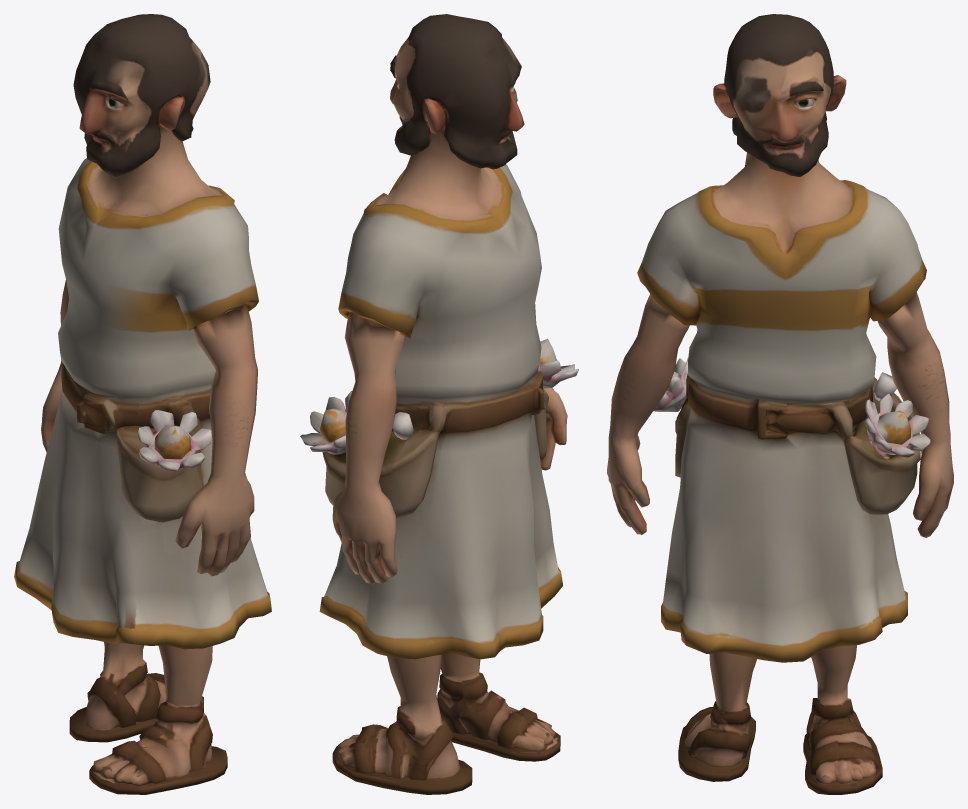
Rendered from char_doryseus_01_mesh_8000.glb.
The picture shows the model from 3 angles, left to right: view 1: azimuth 30°, elevation 25°; view 2: azimuth 150°, elevation 25°; view 3: azimuth 270°, elevation 25°; orthographic projection.
Parts seen in each view (by area): view 1: tripo_node_bf07bfe3-248e-44b8-9c16-947ac5835352; view 2: tripo_node_bf07bfe3-248e-44b8-9c16-947ac5835352; view 3: tripo_node_bf07bfe3-248e-44b8-9c16-947ac5835352.
Part boxes in pixels (<box>): tripo_node_bf07bfe3-248e-44b8-9c16-947ac5835352: <box>14,14,271,794</box>; tripo_node_bf07bfe3-248e-44b8-9c16-947ac5835352: <box>300,14,578,794</box>; tripo_node_bf07bfe3-248e-44b8-9c16-947ac5835352: <box>607,14,953,794</box>.
Bounding box in the file's own units: 0.4614 × 1.8 × 0.7714.
Materials: 1 (1 with a texture image).
